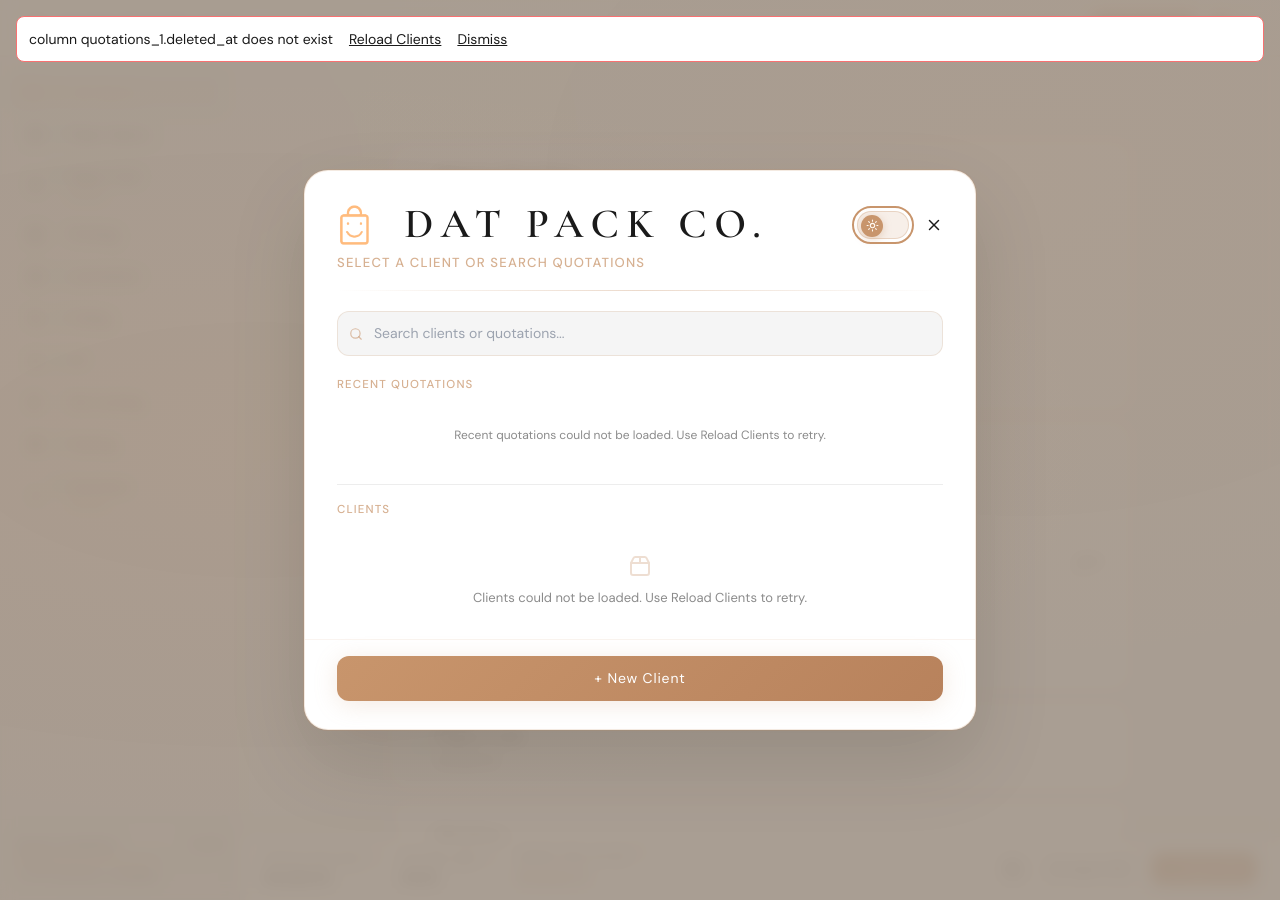
Test: failed client loading is not represented as an empty database and retry restores the list
The image size is (1280, 900).
Check: the dialog shows "Clients could not be loaded", box [473,589,807,606]
Check: the dialog shows "Recent quotations could not be loaded", box [454,427,826,443]
Click the button "Reload Clients" at (395, 39), box [349,29,441,49]
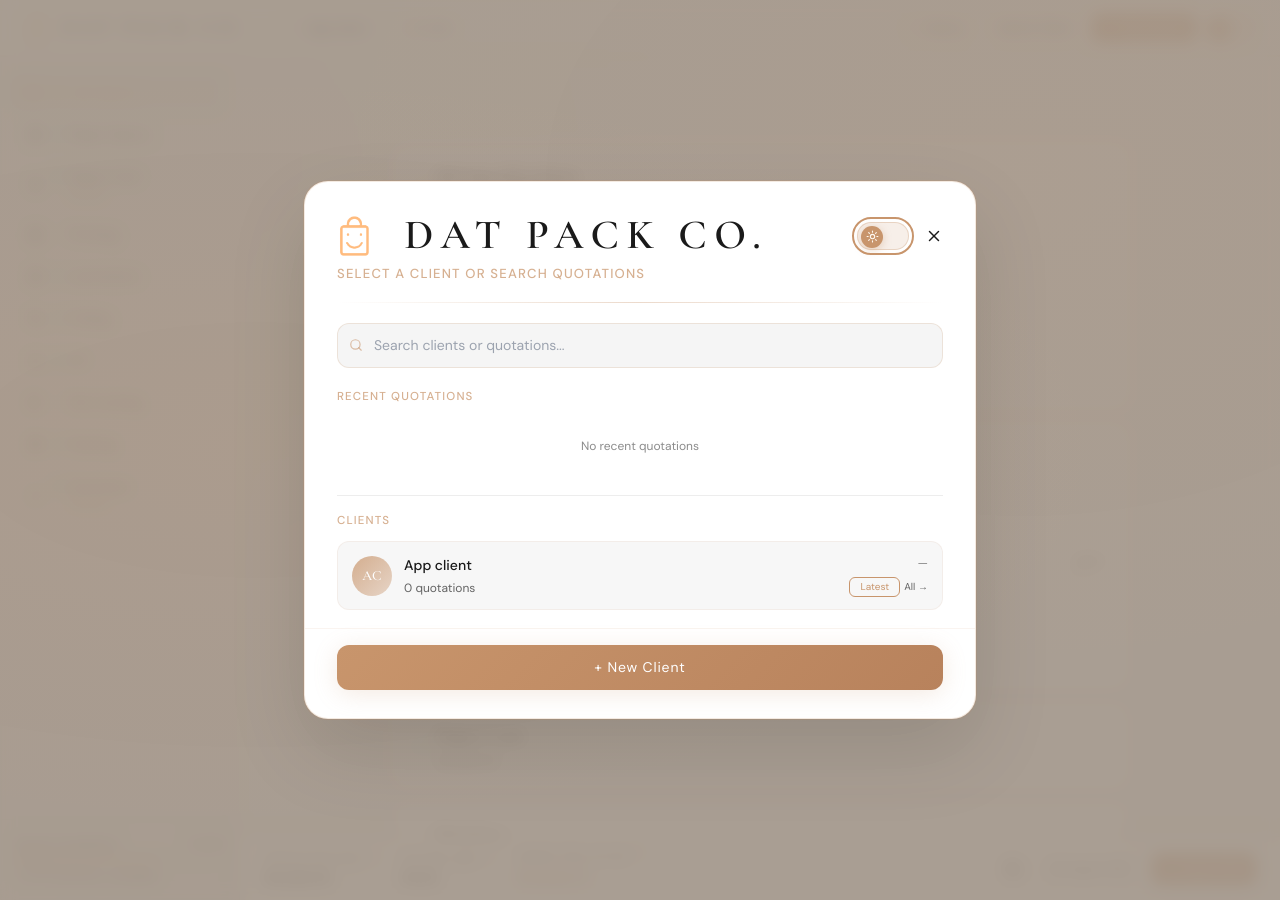
Check: the dialog shows "App client", box [404,556,472,574]
Check: the text "Clients could not be loaded" is gone
